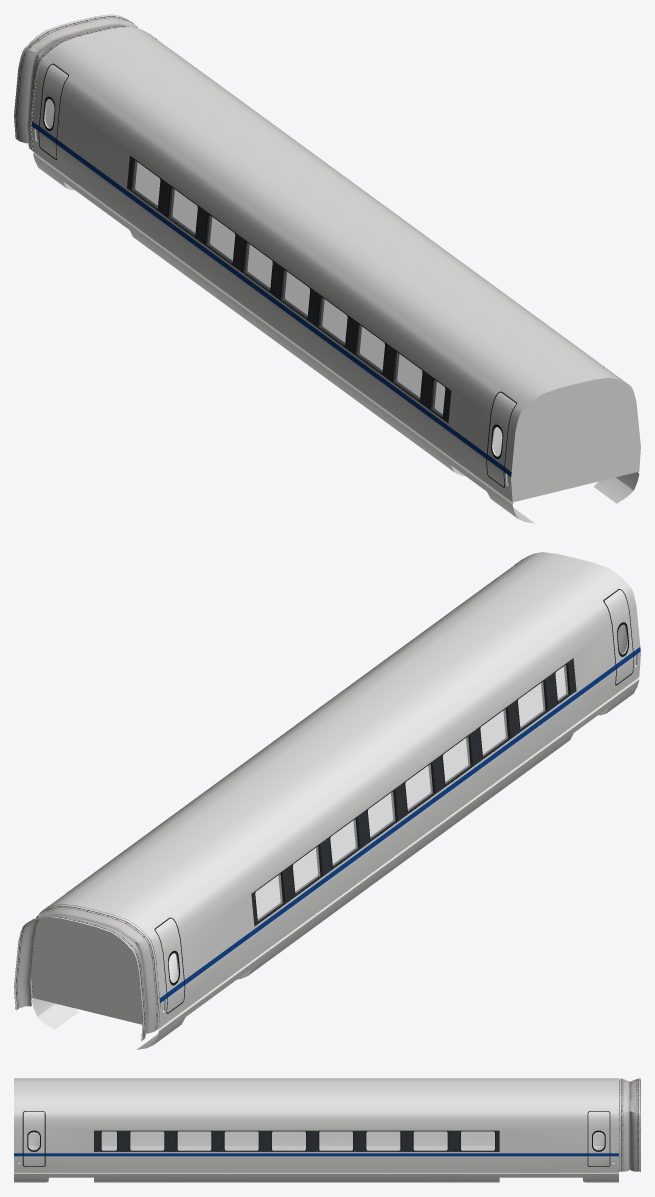
3 renders of one model, top to bottom at view 1: azimuth 30°, elevation 25°; view 2: azimuth 150°, elevation 25°; view 3: azimuth 270°, elevation 25°, orthographic. The views are drawn at different scales.
Visible parts, largest first — view 1: crh3_3hcxwk003, crh3_2hcxbl004, crh3_gdwk007; view 2: crh3_3hcxwk003, crh3_2hcxbl004, crh3_gdwk007; view 3: crh3_3hcxwk003, crh3_2hcxbl004, crh3_gdwk007.
Boxes of the visible parts, box(x1,y1,x2,y2) form: crh3_3hcxwk003: box(31, 26, 640, 523); crh3_2hcxbl004: box(133, 160, 445, 415); crh3_gdwk007: box(14, 14, 137, 150); crh3_3hcxwk003: box(31, 552, 640, 1049); crh3_2hcxbl004: box(255, 665, 568, 920); crh3_gdwk007: box(14, 904, 160, 1041); crh3_3hcxwk003: box(14, 1078, 618, 1182); crh3_2hcxbl004: box(101, 1131, 494, 1150); crh3_gdwk007: box(619, 1078, 640, 1171).
Size of the model in its own units: 386 by 368 by 2556.
